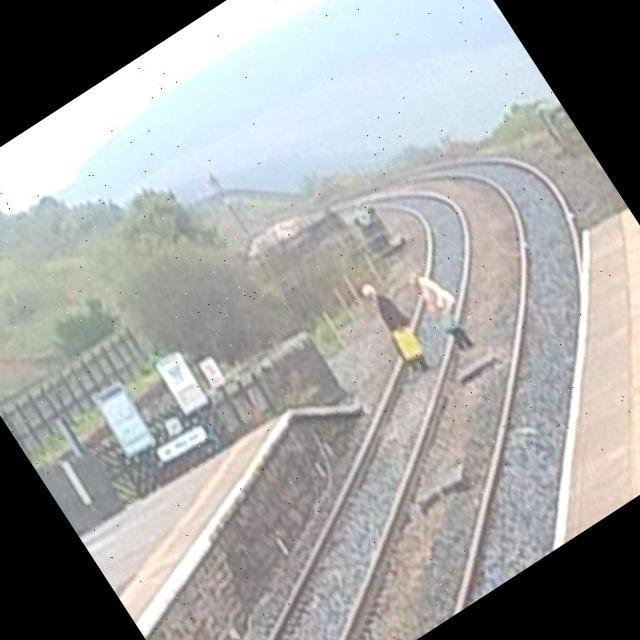person: (341, 255, 446, 386), (389, 248, 493, 371)
